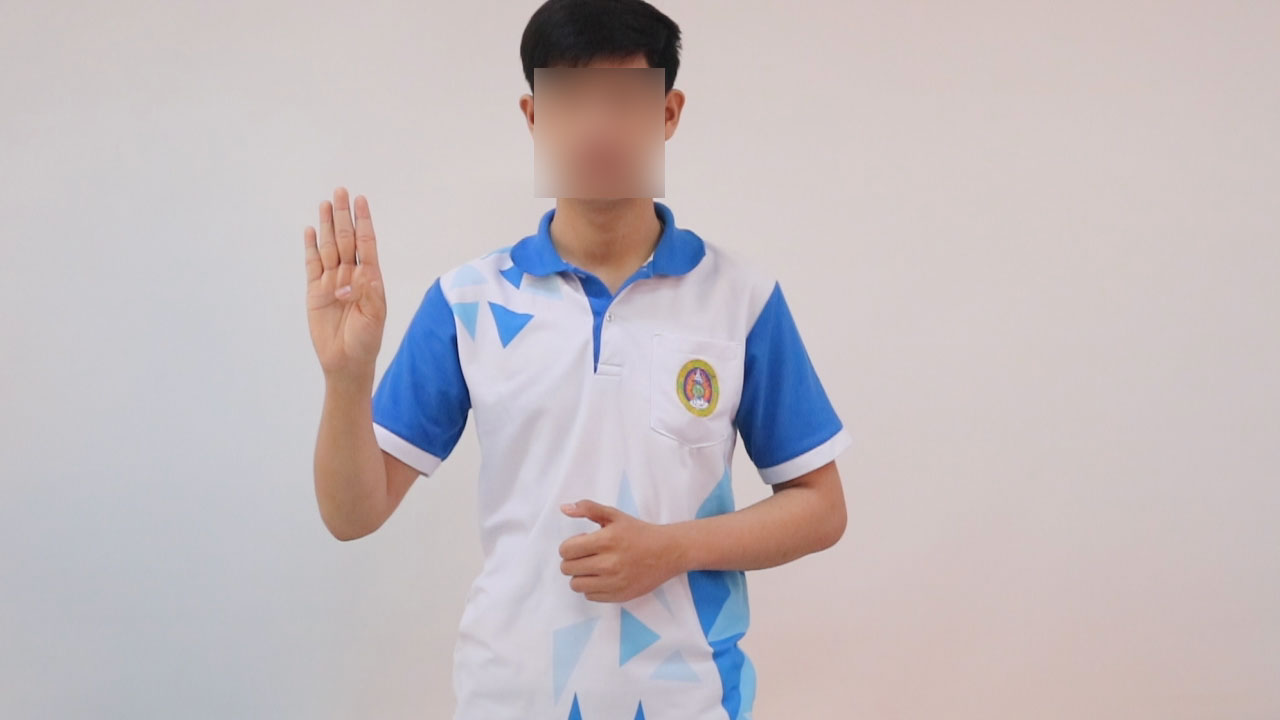bor: (273, 174, 417, 407)
